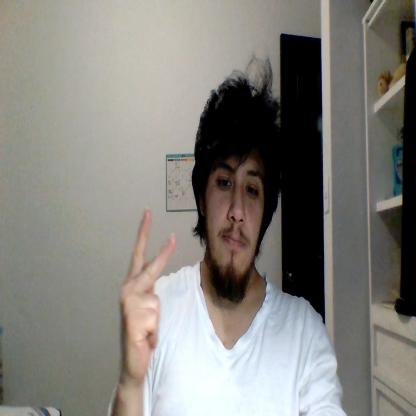P: (119, 208, 174, 385)
